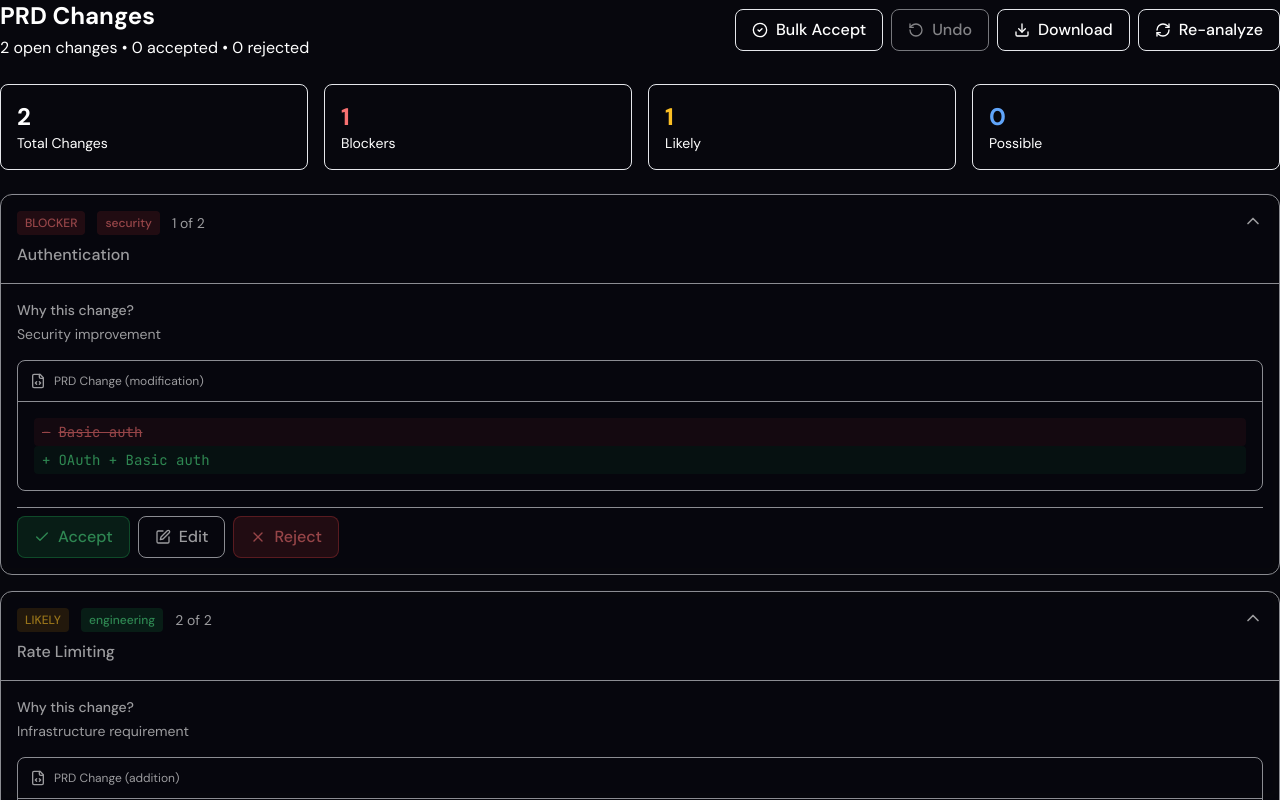
PRDChangesView › opens bulk accept panel
The image size is (1280, 800).
Expected: the heading "Authentication" is shown, [17,244,130,265]
Step 1. Click the button "Bulk Accept" → [809, 30], box [735,9,883,51]
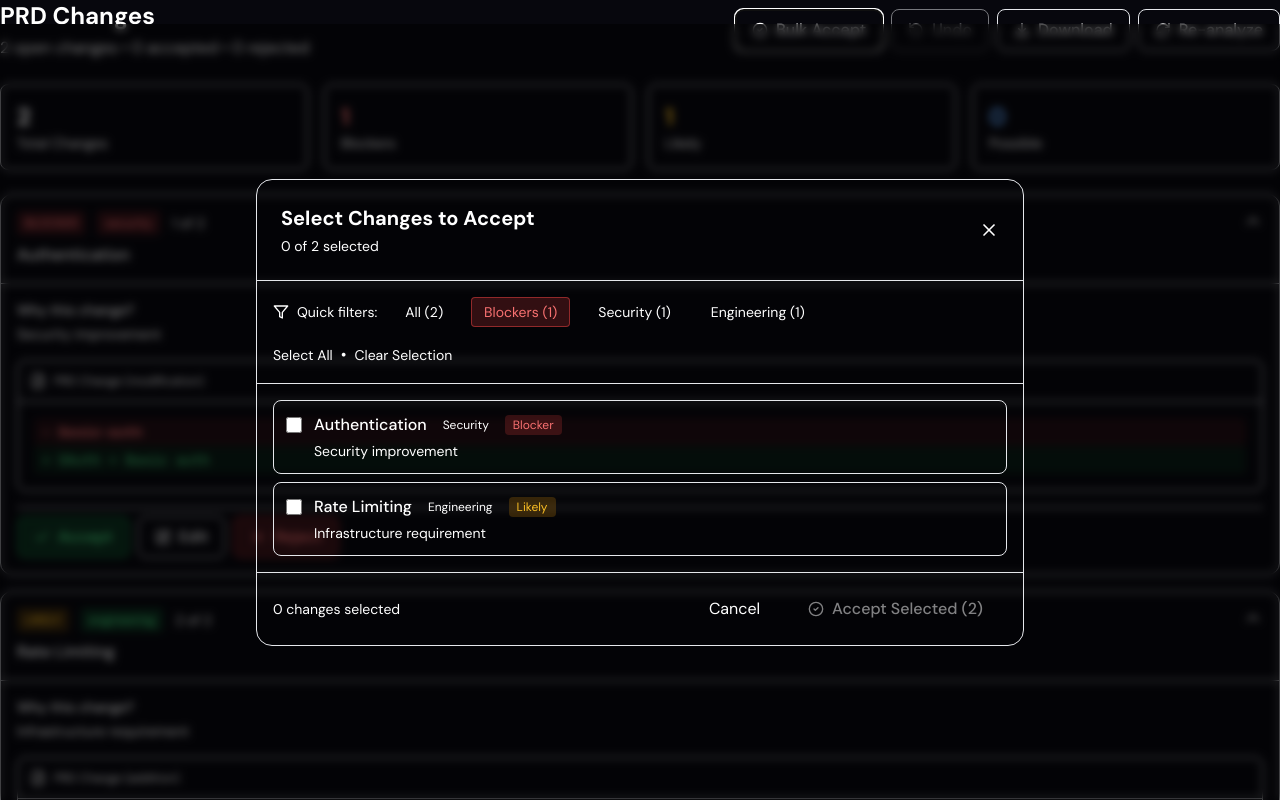
Expected: the heading "Select Changes to Accept" is shown, [281,204,535,232]
